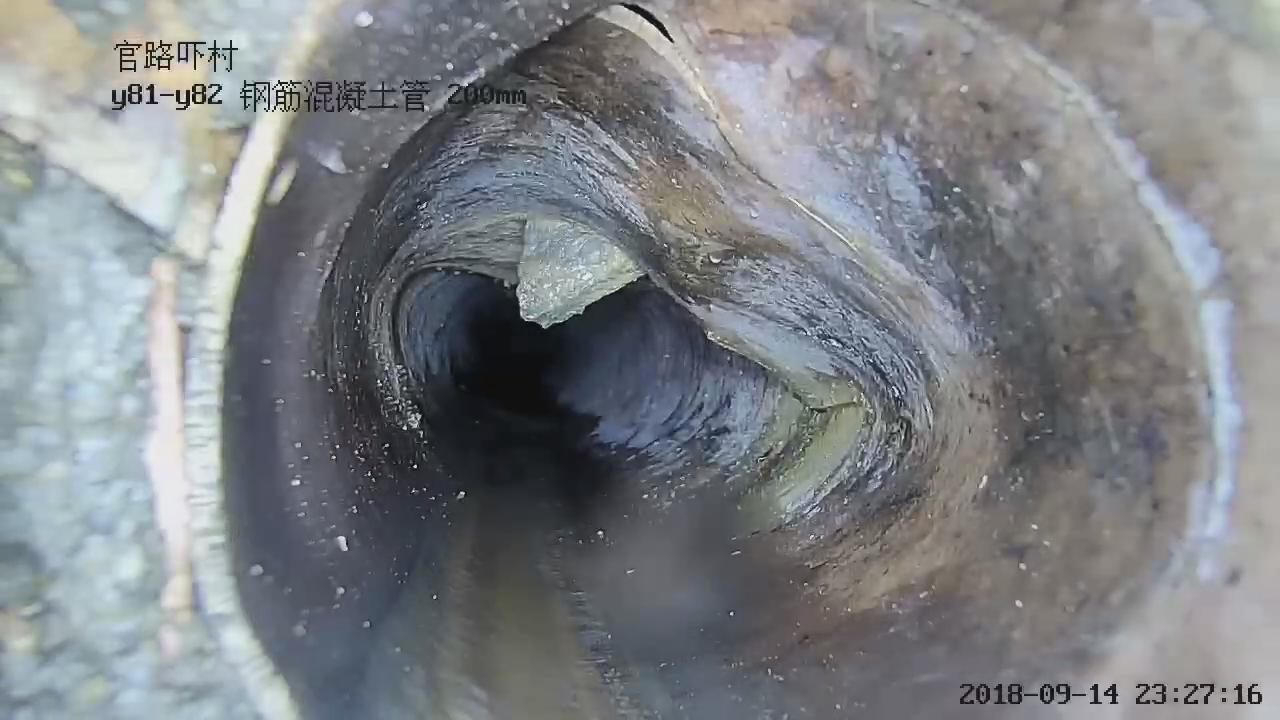BX: (310, 104, 883, 521)
PL: (594, 4, 688, 72)
